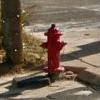Hydrant: (37, 18, 66, 91)
